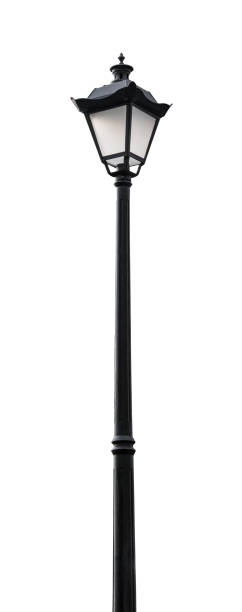light_pole: (111, 180, 136, 608)
